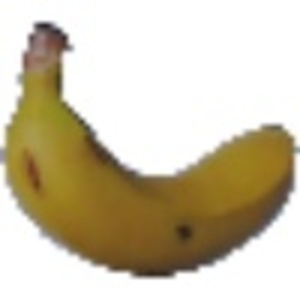banana: (5, 12, 298, 281)
